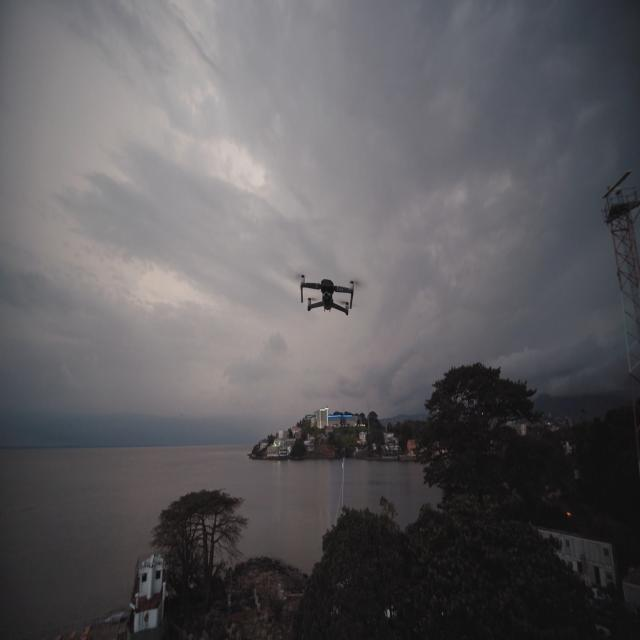drone: (300, 274, 354, 316)
